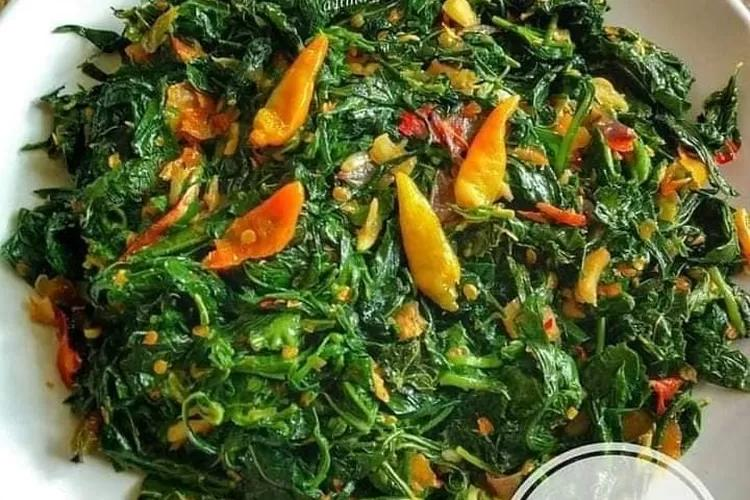buah_sayur_lainnya: (111, 17, 696, 423)
